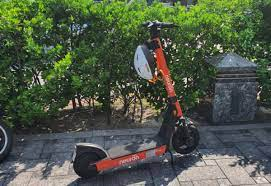kick_board: (73, 20, 199, 177)
kick_handler: (140, 21, 179, 37)
kick_neck: (151, 42, 182, 115)
kick_wheel: (72, 144, 104, 176), (173, 124, 199, 153)
